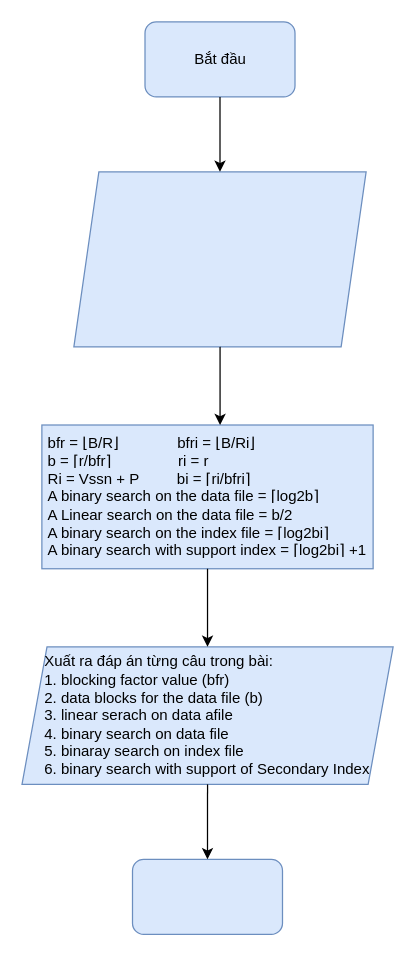
Some shapes in this 415 by 956 pixel diagram are drawn without their labels. The box of each missing label's shape, as (x1, y1, x2, y2) in pixels:
Kết thúc: (131, 858, 282, 934)
Nhập R, B, P, Vssn, r: (73, 171, 366, 347)
